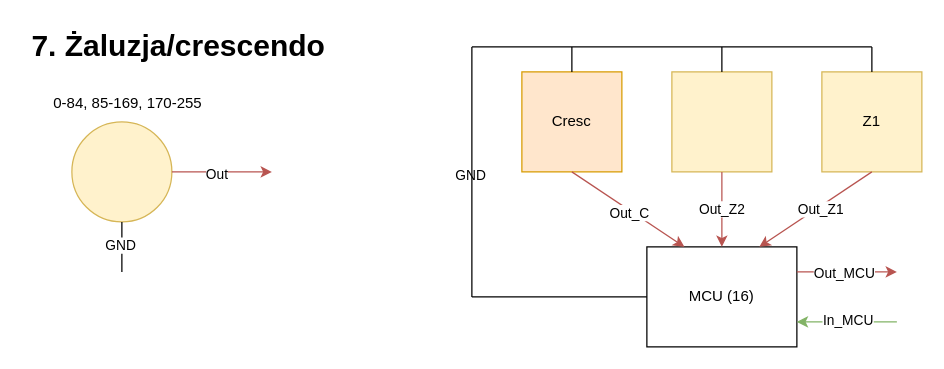
Some shapes in this 944 by 369 pixel diagram are drawn without their labels. Each missing label, with the centre of its shape:
"Potencjometr 0-255" goes at [121,171].
"Z2" goes at [721,121].
